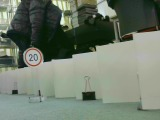speed_20: (21, 46, 45, 69)
